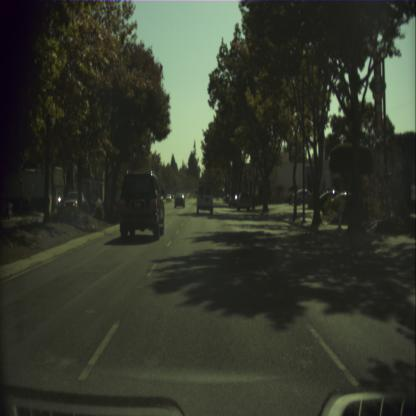Green: (210, 171, 212, 176)
Yellow: (186, 182, 188, 185), (174, 188, 176, 190)
